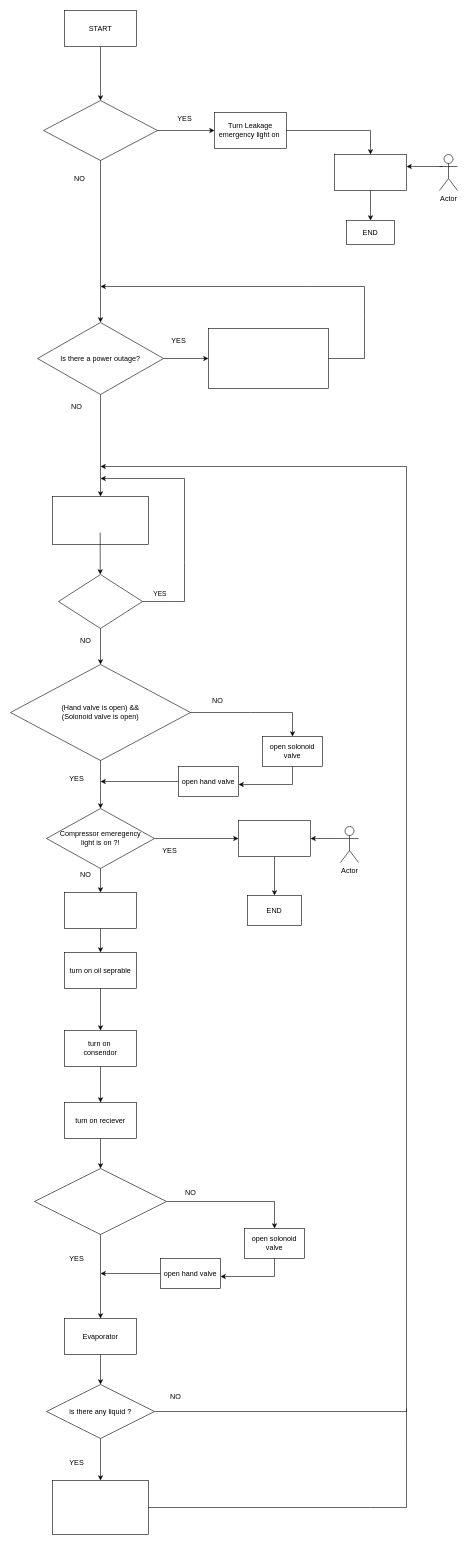
Image size: 468x1545. Some labels were removed from this diagram. The centre of each missing label's shape, as x and y in pixels:
"(Selonoid Valve is open) && (Hand Valve is open)" goes at point 100,1201.
"Close Hand Valve" goes at point 274,838.
"close solonoid valve remotely" goes at point 370,172.
"is there any pipe leakage?" goes at point 100,130.
"Measuring the environment temperature Ti" goes at point 100,520.
"Operator should connect the emergency power operator" goes at point 268,358.
"Ti - Tref = 0" goes at point 100,601.
"turn on accumulator for gathering liquids" goes at point 100,1507.
"turn on compressor" goes at point 100,910.
